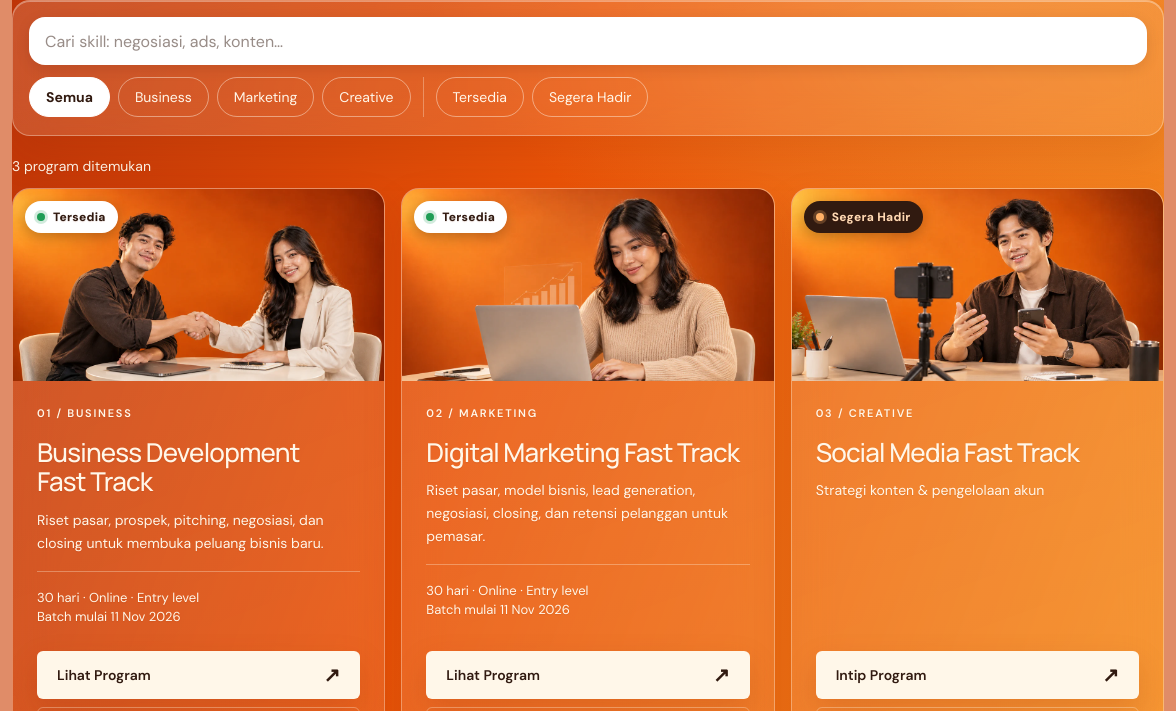
Test: typing filters by keyword
The width and height of the screenshot is (1176, 711).
Type "retention" into the search field named "Cari program" at point(588, 41), box x1=29 y1=17 x2=1147 y2=65
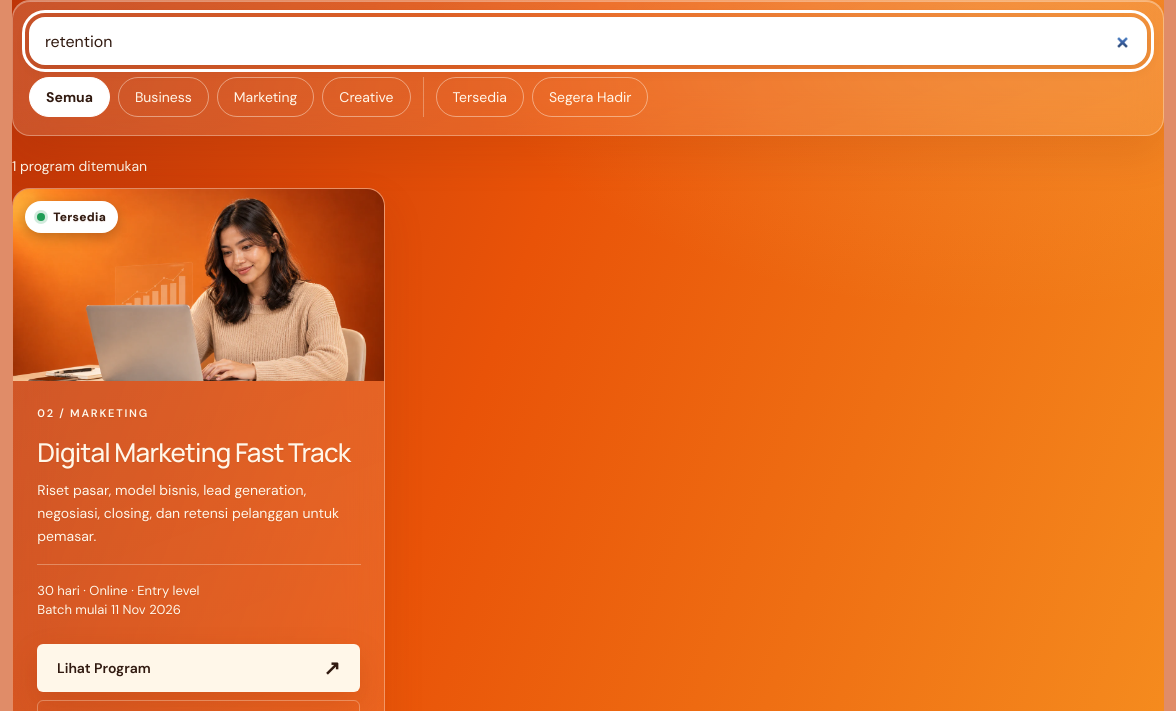
Expected: the heading "Digital Marketing Fast Track" is shown, x1=37 y1=438 x2=360 y2=467
Now the text "1 program ditemukan" is shown, box x1=12 y1=157 x2=147 y2=175
